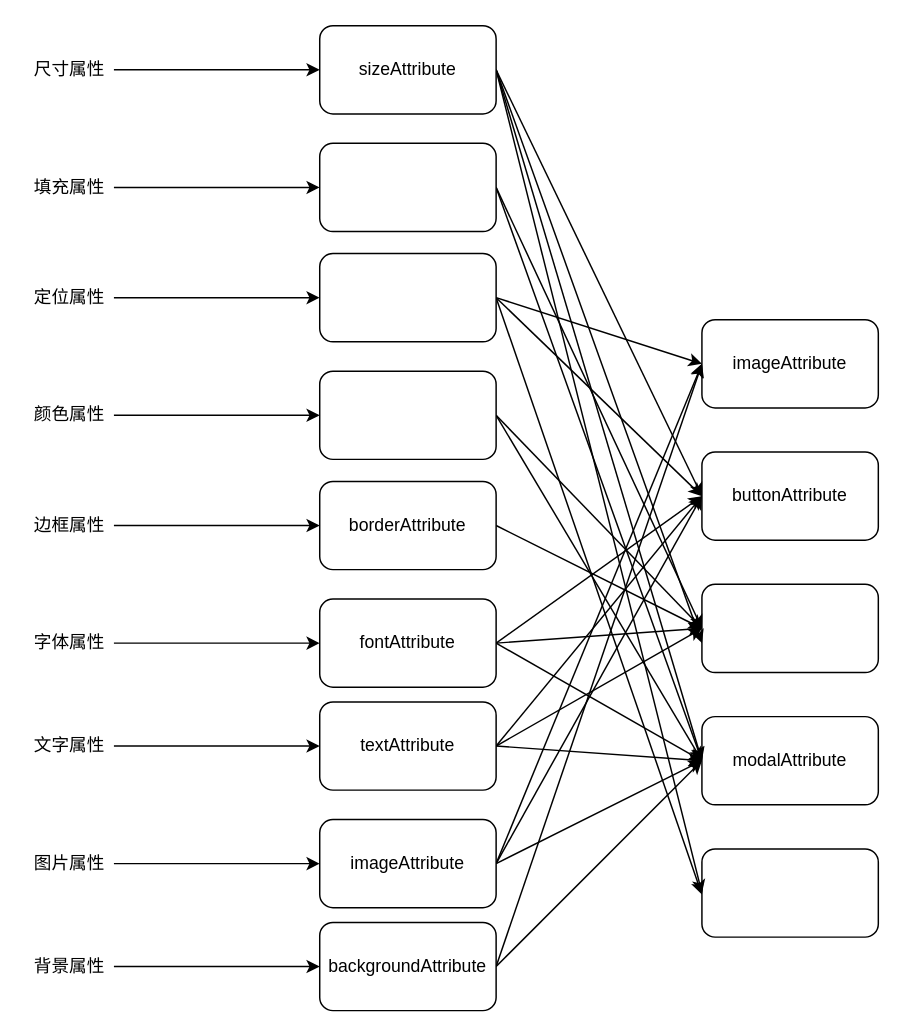
Image size: 904x1036. Some labels were removed from this diagram. Here are the shapes that lost their labels. From the top down, the centre of each, then its label:
At pixel 407 187: "paddingAttribute".
At pixel 407 297: "positionAttribute".
At pixel 407 414: "colorAttribute".
At pixel 789 628: "countDownAttribute".
At pixel 789 892: "couseAttribute".
